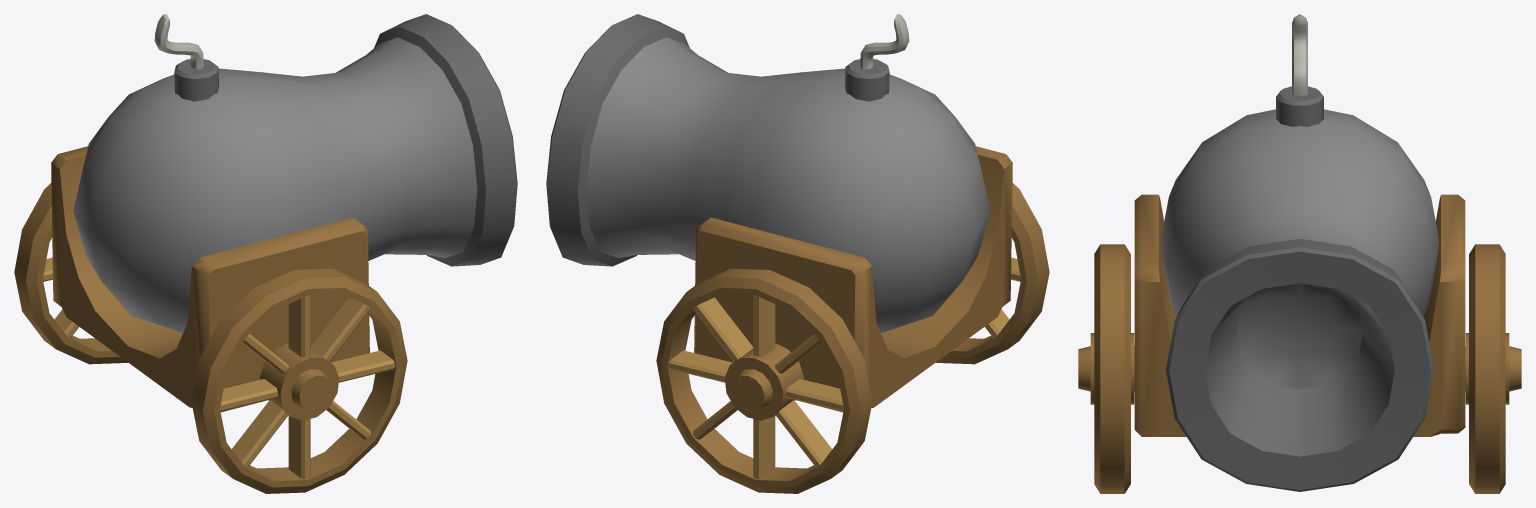
The model's file is Cannon.glb.
3 renders of one model, left to right at view 1: azimuth 30°, elevation 25°; view 2: azimuth 150°, elevation 25°; view 3: azimuth 270°, elevation 25°, orthographic. The views are drawn at different scales.
Visible parts, largest first — view 1: Cannon, Cannon_Wheels; view 2: Cannon, Cannon_Wheels; view 3: Cannon, Cannon_Wheels.
Part boxes in pixels (left/top/right/bottom): Cannon: left=51, top=14, right=517, bottom=412; Cannon_Wheels: left=14, top=183, right=407, bottom=493; Cannon: left=546, top=14, right=1012, bottom=412; Cannon_Wheels: left=656, top=183, right=1049, bottom=493; Cannon: left=1134, top=14, right=1465, bottom=491; Cannon_Wheels: left=1078, top=244, right=1521, bottom=493.
Size of the model in its own units: 3.37 by 3.67 by 3.32.
